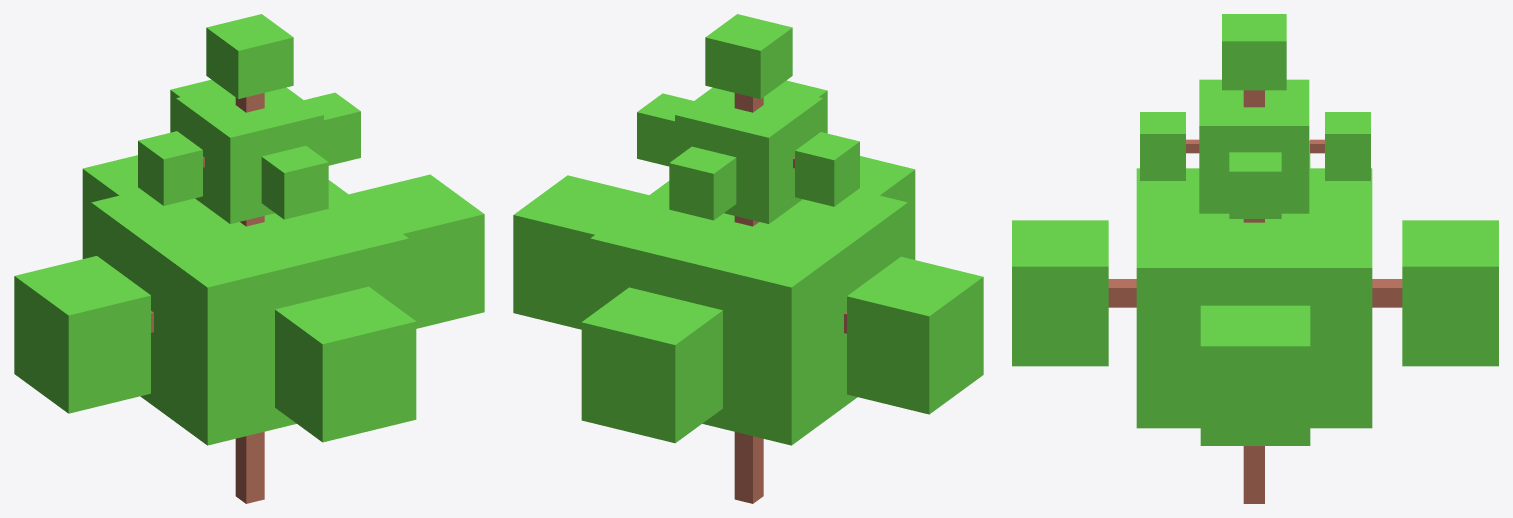
Rendered from bush 3.fbx.
3 views of the same model, side by side, from view 1: azimuth 30°, elevation 25°; view 2: azimuth 150°, elevation 25°; view 3: azimuth 270°, elevation 25° (orthographic).
Parts seen in each view (by area): view 1: Plane; view 2: Plane; view 3: Plane.
Boxes of the visible parts, x1,y1,x2,y2 form: Plane: (14, 14, 484, 503); Plane: (513, 14, 983, 503); Plane: (1012, 14, 1498, 503).
Size of the model in its own units: 268 by 287 by 268.
